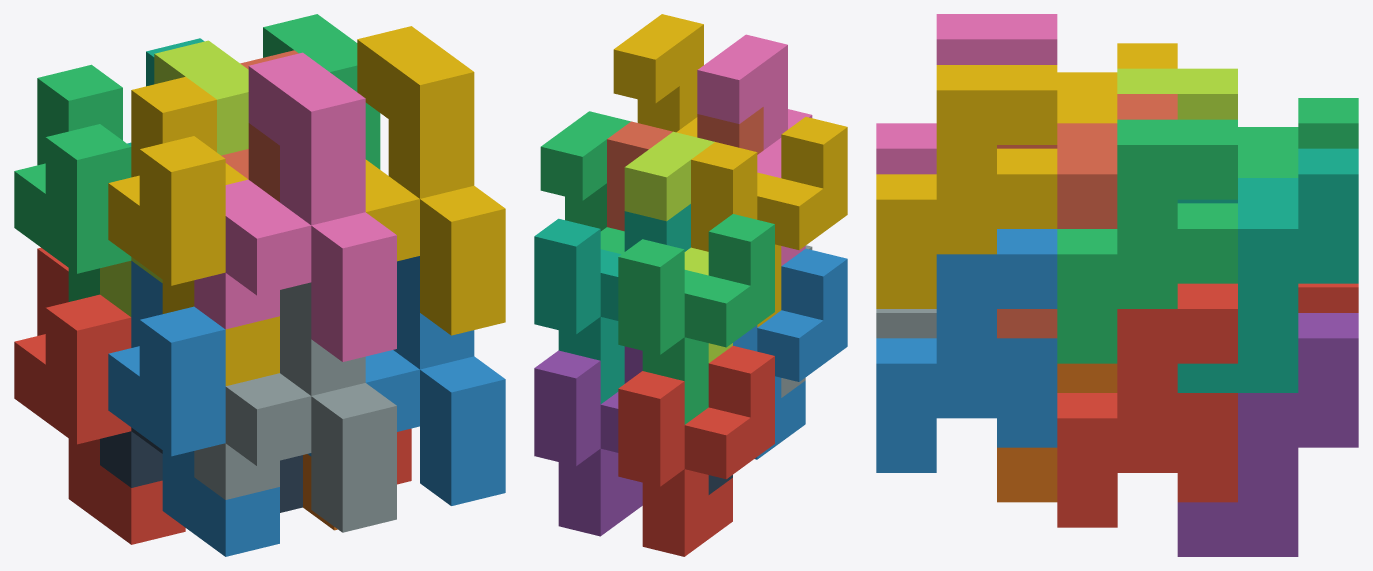
File: tiling.obj
The picture shows the model from 3 angles, left to right: view 1: azimuth 30°, elevation 25°; view 2: azimuth 150°, elevation 25°; view 3: azimuth 270°, elevation 25°; orthographic projection. The views are drawn at different scales.
Visible parts, largest first — view 1: copy_2_domain_4, copy_2_domain_8, copy_2_domain_2, copy_1_domain_4, copy_1_domain_2, copy_1_domain_1, copy_2_domain_6, copy_1_domain_3, copy_2_domain_3, copy_2_domain_7, copy_2_domain_1, copy_1_domain_8 (+2 smaller); view 2: copy_1_domain_1, copy_1_domain_3, copy_1_domain_4, copy_1_domain_5, copy_1_domain_7, copy_1_domain_2, copy_2_domain_4, copy_2_domain_8, copy_2_domain_7, copy_2_domain_3, copy_1_domain_8; view 3: copy_2_domain_6, copy_2_domain_5, copy_2_domain_8, copy_2_domain_7, copy_1_domain_7, copy_1_domain_5, copy_1_domain_8, copy_2_domain_4, copy_1_domain_3, copy_1_domain_6, copy_1_domain_4, copy_2_domain_3 (+2 smaller).
Boxes of the visible parts, left/top/right/bottom form: copy_2_domain_4: left=194, top=52, right=396, bottom=361; copy_2_domain_8: left=357, top=26, right=505, bottom=335; copy_2_domain_2: left=194, top=282, right=396, bottom=532; copy_1_domain_4: left=108, top=76, right=279, bottom=385; copy_1_domain_2: left=108, top=261, right=279, bottom=556; copy_1_domain_1: left=14, top=247, right=185, bottom=544; copy_2_domain_6: left=308, top=256, right=505, bottom=505; copy_1_domain_3: left=14, top=64, right=131, bottom=301; copy_2_domain_3: left=100, top=40, right=248, bottom=316; copy_2_domain_7: left=263, top=14, right=380, bottom=169; copy_2_domain_1: left=100, top=427, right=302, bottom=512; copy_1_domain_8: left=221, top=50, right=298, bottom=202; copy_1_domain_1: left=618, top=346, right=774, bottom=556; copy_1_domain_3: left=618, top=214, right=774, bottom=424; copy_1_domain_4: left=691, top=117, right=847, bottom=327; copy_1_domain_5: left=534, top=346, right=642, bottom=536; copy_1_domain_7: left=534, top=204, right=690, bottom=403; copy_1_domain_2: left=733, top=248, right=847, bottom=459; copy_2_domain_4: left=697, top=34, right=812, bottom=265; copy_2_domain_8: left=613, top=14, right=703, bottom=137; copy_2_domain_7: left=540, top=111, right=630, bottom=254; copy_2_domain_3: left=624, top=131, right=732, bottom=362; copy_1_domain_8: left=607, top=107, right=763, bottom=231; copy_2_domain_6: left=876, top=229, right=1057, bottom=472; copy_2_domain_5: left=1057, top=283, right=1237, bottom=527; copy_2_domain_8: left=876, top=65, right=1057, bottom=308; copy_2_domain_7: left=1057, top=119, right=1237, bottom=363; copy_1_domain_7: left=1177, top=148, right=1358, bottom=392; copy_1_domain_5: left=1177, top=313, right=1358, bottom=556; copy_1_domain_8: left=997, top=94, right=1177, bottom=338; copy_2_domain_4: left=876, top=14, right=1057, bottom=174; copy_1_domain_3: left=1238, top=98, right=1358, bottom=177; copy_1_domain_6: left=997, top=363, right=1117, bottom=502; copy_1_domain_4: left=1057, top=43, right=1177, bottom=123; copy_2_domain_3: left=1117, top=68, right=1237, bottom=119.
Size of the model in its own units: 5 by 9 by 8.
